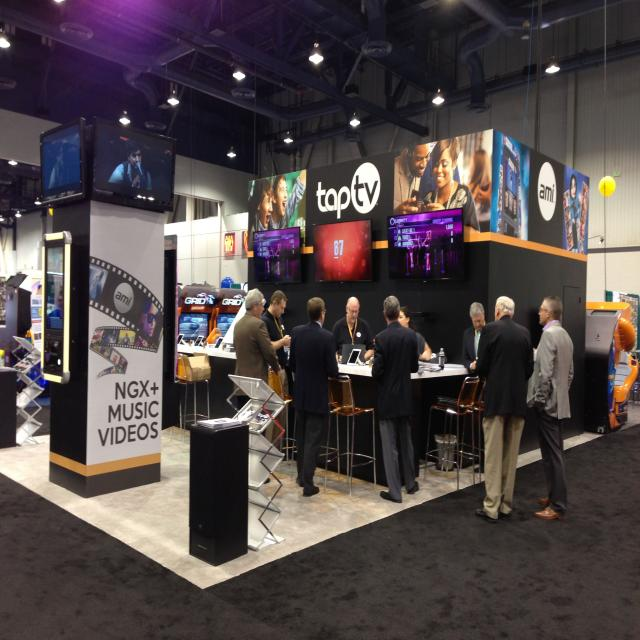body: (27, 132, 610, 248), (470, 292, 538, 528), (525, 292, 578, 524), (284, 295, 341, 499), (369, 294, 422, 504), (232, 288, 282, 385), (331, 296, 376, 364), (260, 289, 292, 370), (134, 292, 162, 379), (396, 306, 433, 362), (462, 301, 491, 372)
